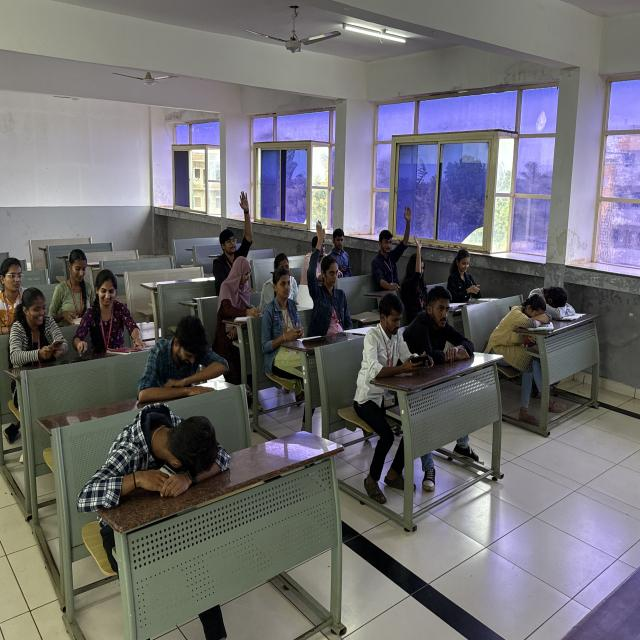Hand Rising: (293, 204, 356, 338), (366, 192, 414, 291), (215, 183, 253, 284), (406, 234, 436, 305)
Sleeping: (107, 396, 226, 510), (491, 289, 553, 393), (535, 277, 586, 330)
Using Phone: (359, 288, 434, 428), (12, 285, 72, 375), (439, 236, 492, 307)
Writing: (225, 249, 264, 343)
